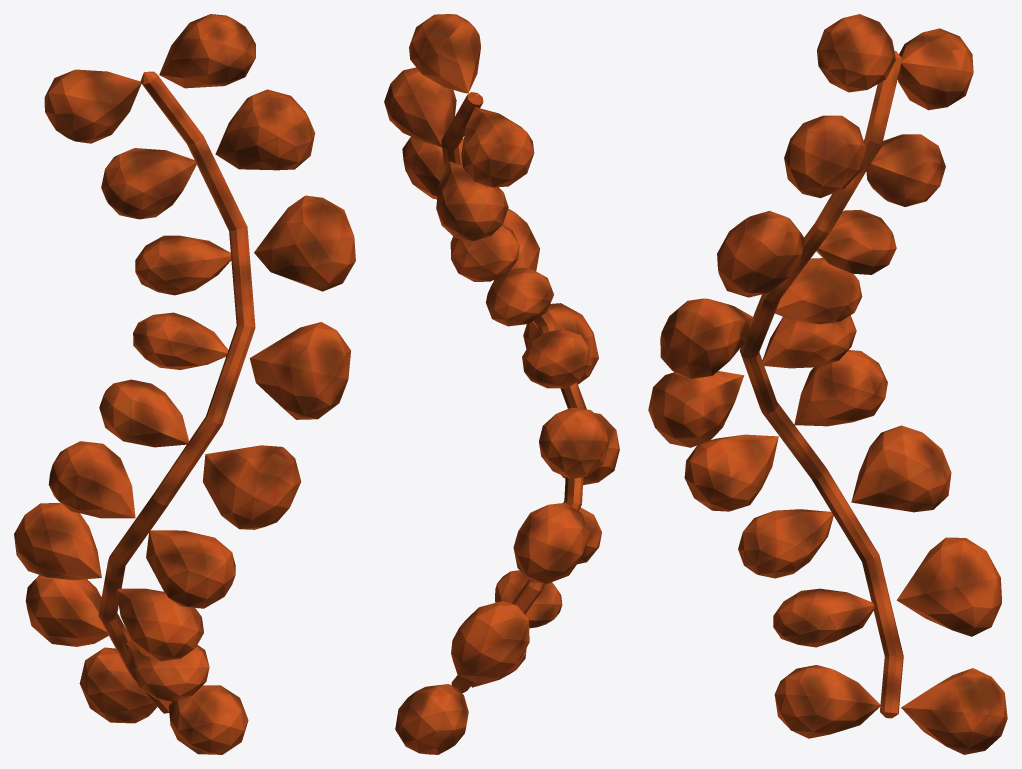
Rendered from art_mombeads.obj.
3 views of the same model, side by side, from view 1: azimuth 30°, elevation 25°; view 2: azimuth 150°, elevation 25°; view 3: azimuth 270°, elevation 25° (orthographic). The views are drawn at different scales.
Visible parts, largest first — view 1: art_mombeads_Icosphere; view 2: art_mombeads_Icosphere; view 3: art_mombeads_Icosphere.
Part boxes in pixels (left/top/right/bottom): art_mombeads_Icosphere: left=14, top=14, right=355, bottom=754; art_mombeads_Icosphere: left=384, top=14, right=619, bottom=754; art_mombeads_Icosphere: left=648, top=14, right=1007, bottom=754.
Size of the model in its own units: 1.87 by 5.07 by 2.2.
